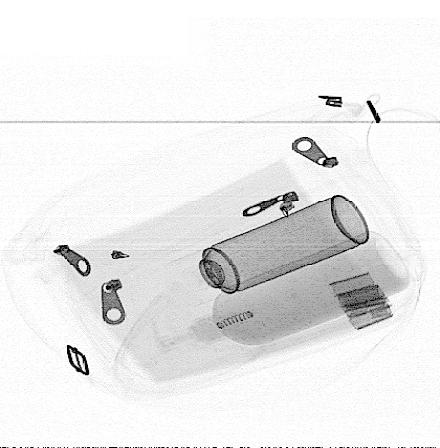Sprayer: (159, 195, 369, 307)
